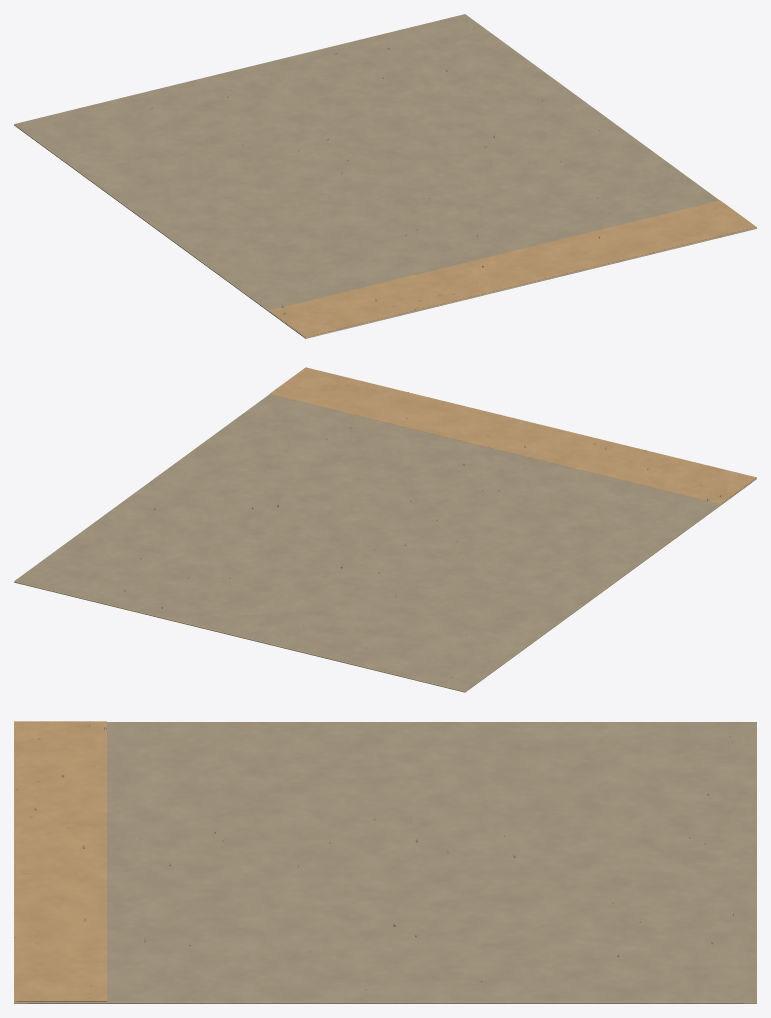
File: ground_shore.glb
The picture shows the model from 3 angles, top to bottom: view 1: azimuth 30°, elevation 25°; view 2: azimuth 150°, elevation 25°; view 3: azimuth 270°, elevation 25°; orthographic projection. The views are drawn at different scales.
Parts seen in each view (by area): view 1: SM_GroundShore; view 2: SM_GroundShore; view 3: SM_GroundShore.
Part boxes in pixels (box(x1,y1,x2,y2)): SM_GroundShore: box(14, 14, 756, 338); SM_GroundShore: box(14, 367, 756, 692); SM_GroundShore: box(14, 721, 756, 1003).
Size of the model in its own units: 50 by 0.5649 by 56.01.
Materials: 1 (1 with a texture image).
